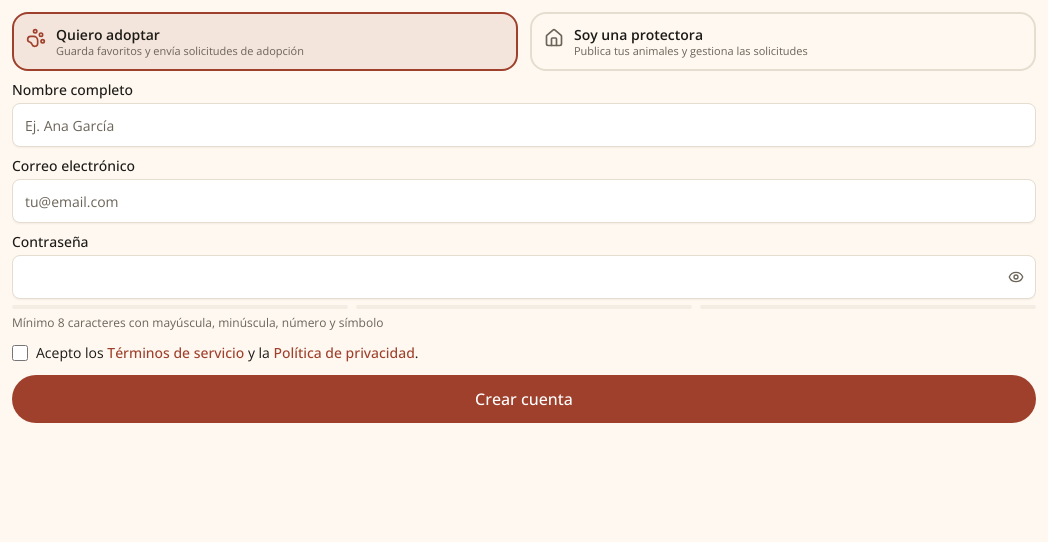
Test case: RegisterForm › con datos inválidos muestra mensajes específicos por campo
Type "no-es-email" into the field labelled "Correo electrónico".
click(524, 201); type("no-es-email")  # box [12,179,1036,223]
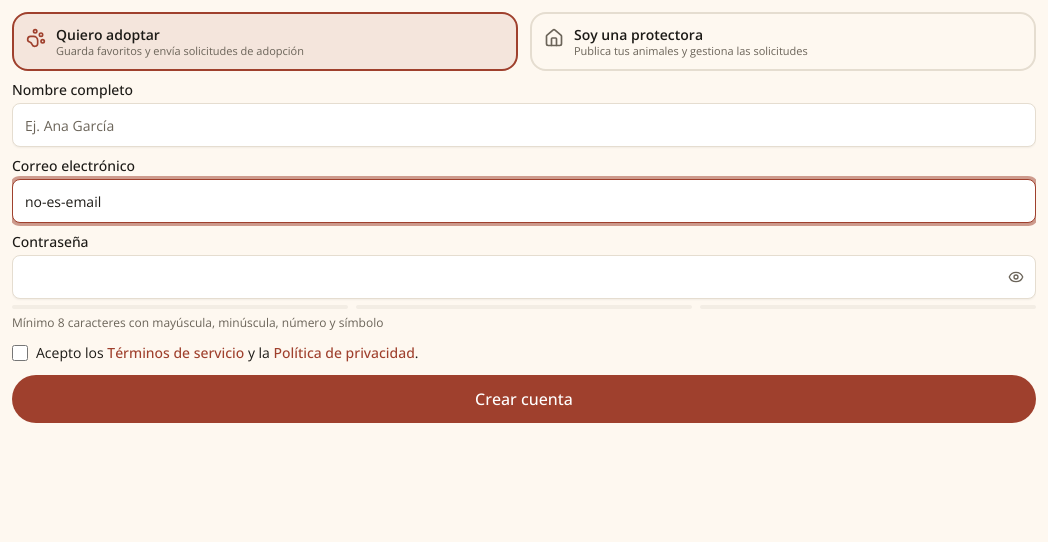
Type "solo-letras-aqui" into the password field labelled "Contraseña".
click(524, 277); type("solo-letras-aqui")  # box [12,255,1036,299]
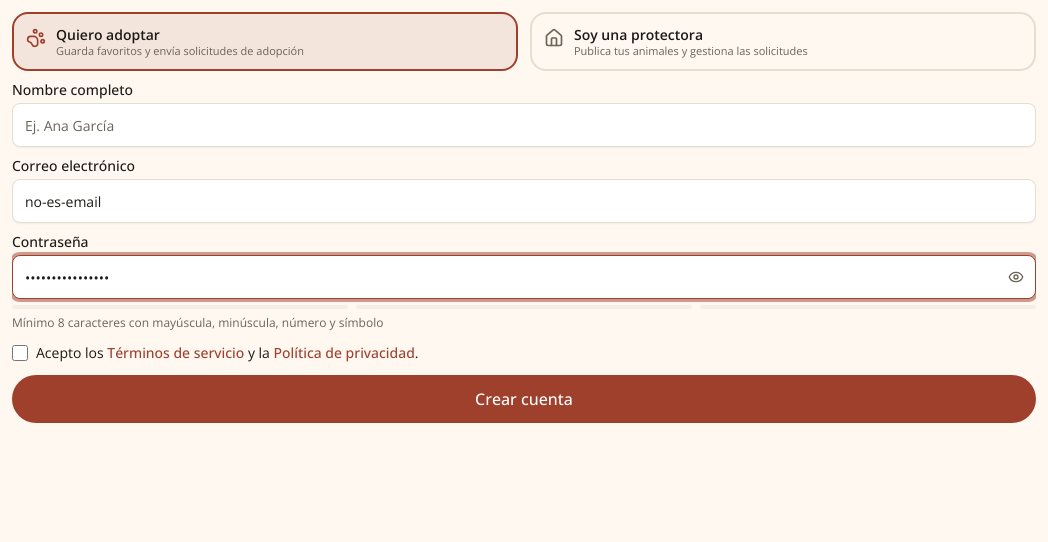
Click the button "Crear cuenta".
click(524, 399)  # box [12,375,1036,423]
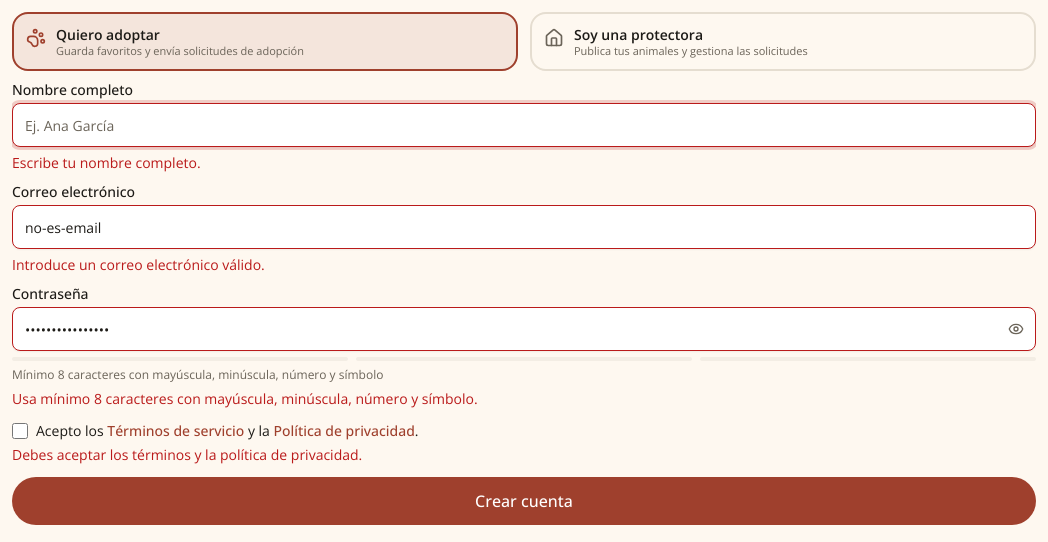
Result: the text "Escribe tu nombre completo." is shown at [12,153,201,172]
Result: the text "Introduce un correo electrónico válido." is shown at [12,255,265,274]
Result: the text "Usa mínimo 8 caracteres con mayúscula, minúscula, número y símbolo." is shown at [12,389,478,408]
